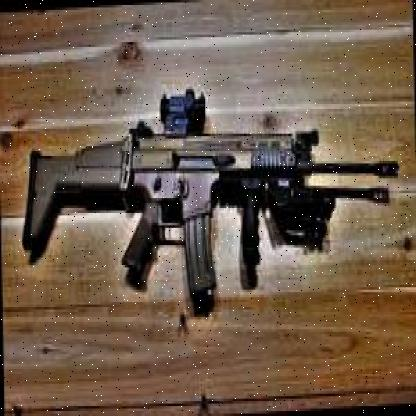rifle: (21, 94, 401, 310)
